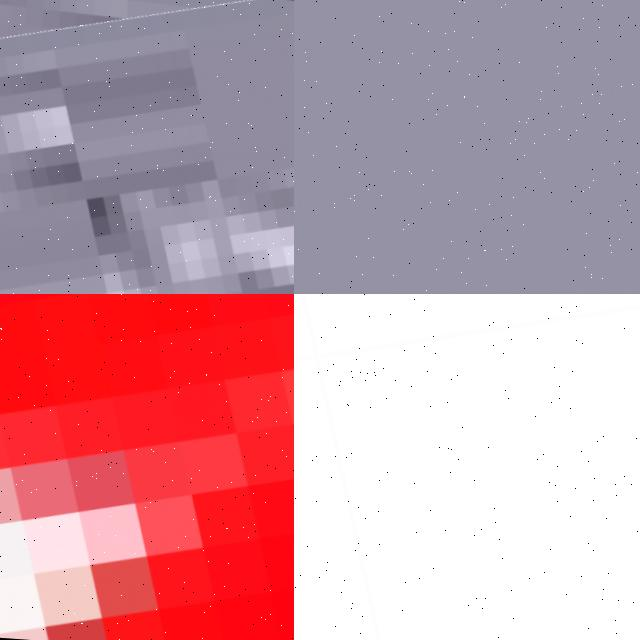0: (0, 0, 294, 294)
drone: (294, 294, 640, 640), (0, 294, 294, 640)
